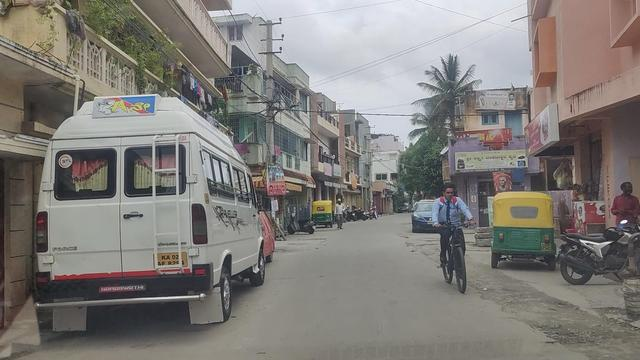HMV: (37, 97, 275, 330)
LMV: (490, 194, 557, 271), (436, 184, 475, 297)
RoadDamages: (504, 289, 593, 348)
